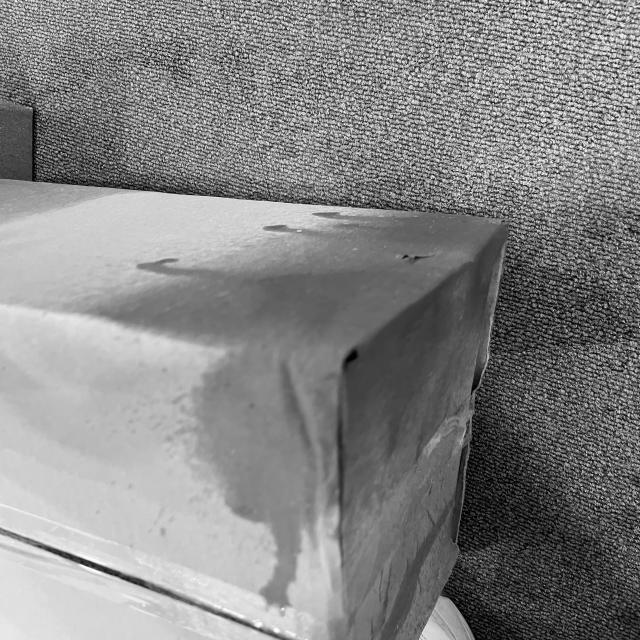wet: (95, 210, 507, 530)
